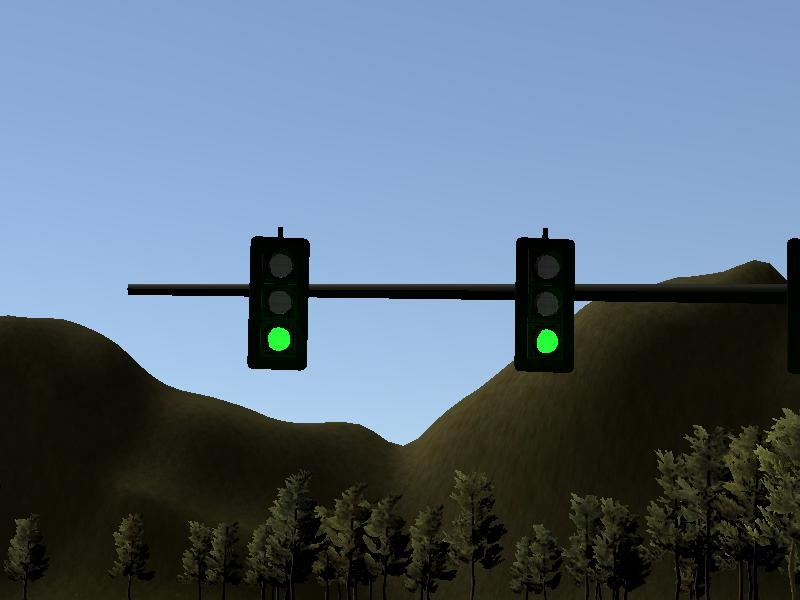green: (514, 236, 577, 374), (250, 236, 309, 372)
